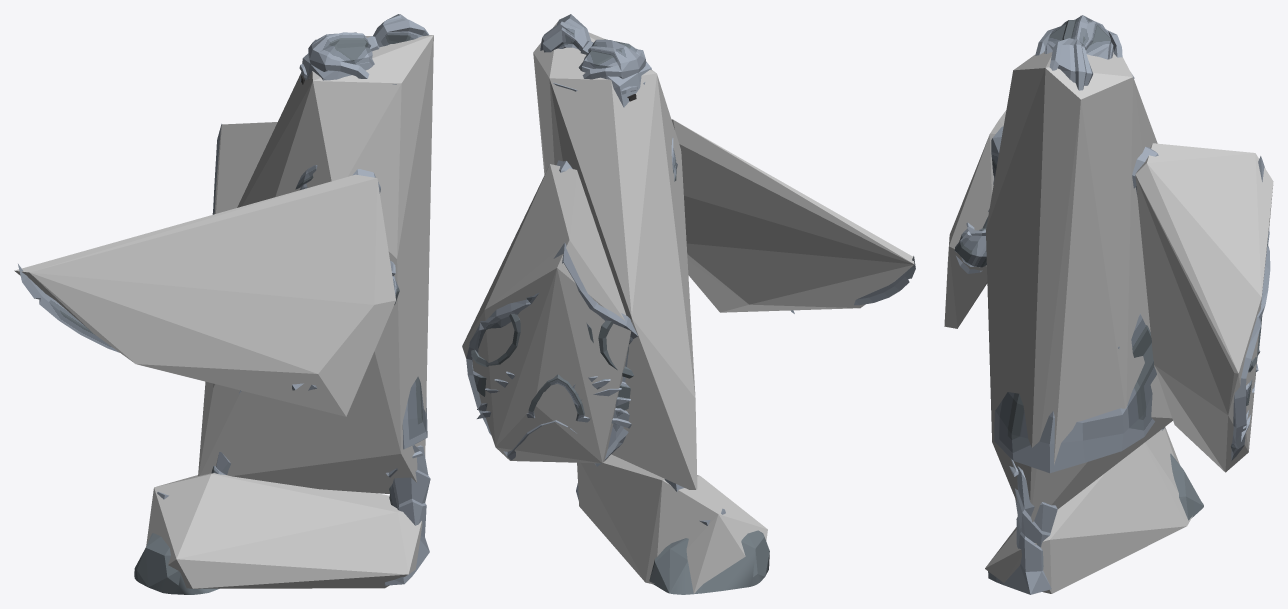
Rendered from SM_Prop_Statue_08.fbx.
The picture shows the model from 3 angles, left to right: view 1: azimuth 30°, elevation 25°; view 2: azimuth 150°, elevation 25°; view 3: azimuth 270°, elevation 25°; orthographic projection. The views are drawn at different scales.
Parts seen in each view (by area): view 1: SM_Prop_Statue_08_ConvexHulls, SM_Prop_Statue_08; view 2: SM_Prop_Statue_08_ConvexHulls, SM_Prop_Statue_08; view 3: SM_Prop_Statue_08_ConvexHulls, SM_Prop_Statue_08.
Boxes of the visible parts, x1,y1,x2,y2 form: SM_Prop_Statue_08_ConvexHulls: (14,35,433,588); SM_Prop_Statue_08: (18,14,430,594); SM_Prop_Statue_08_ConvexHulls: (462,20,914,593); SM_Prop_Statue_08: (466,14,915,594); SM_Prop_Statue_08_ConvexHulls: (944,52,1273,593); SM_Prop_Statue_08: (954,15,1270,594).
Bounding box in the file's own units: 152 × 100 × 189.
Materials: 2 (1 with a texture image).
